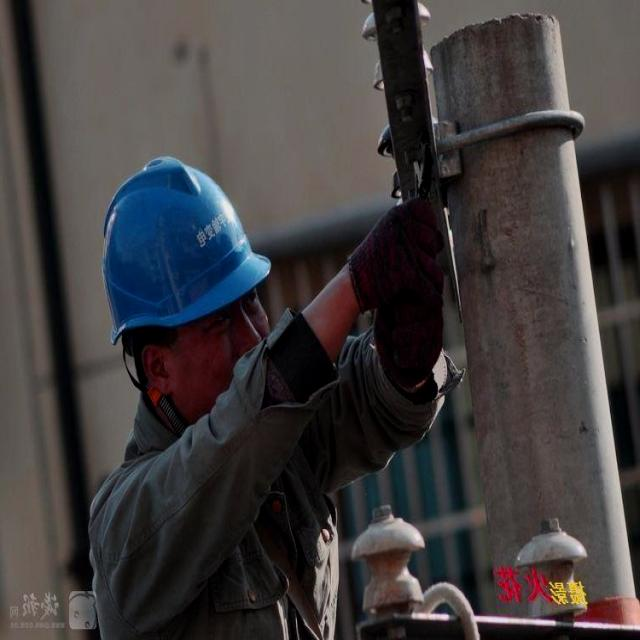face_nomask: (181, 283, 278, 423)
hand_glove: (340, 185, 444, 307), (362, 285, 462, 394)
head_helmet: (107, 156, 255, 298)
person: (91, 161, 312, 632)
